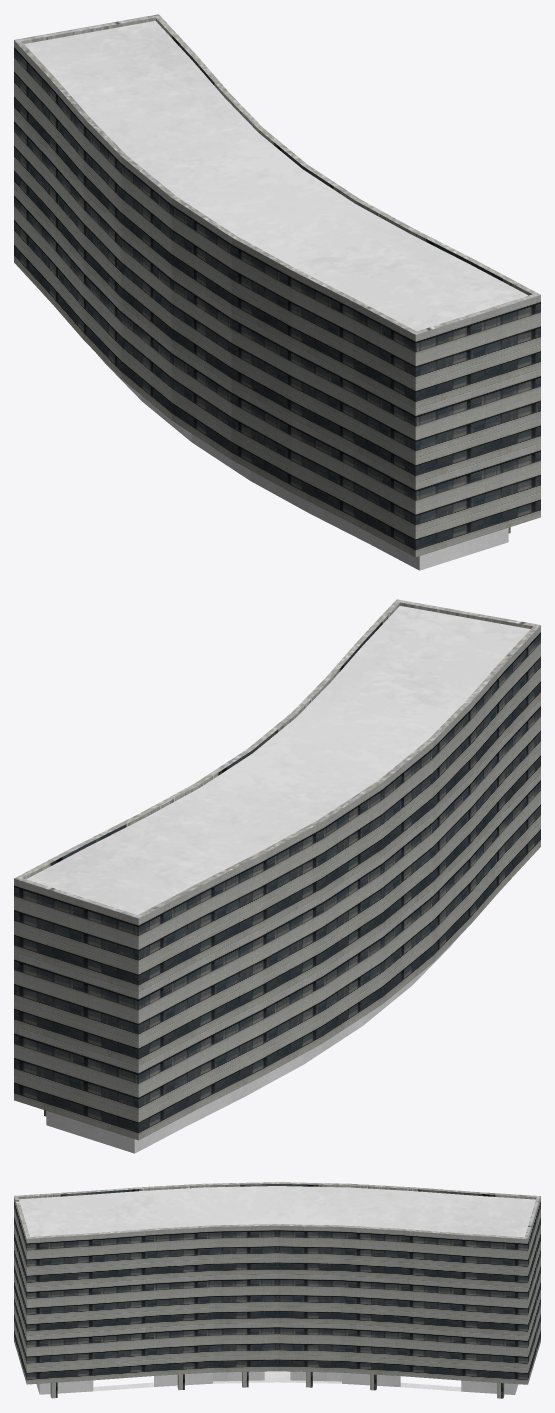
The picture shows the model from 3 angles, top to bottom: view 1: azimuth 30°, elevation 25°; view 2: azimuth 150°, elevation 25°; view 3: azimuth 270°, elevation 25°; orthographic projection. The views are drawn at different scales.
Visible parts, largest first — view 1: Cube; view 2: Cube; view 3: Cube.
Part boxes in pixels (box(x1,y1,x2,y2)): Cube: box(14, 14, 540, 570); Cube: box(14, 599, 540, 1153); Cube: box(14, 1182, 540, 1398).
Size of the model in its own units: 29.39 by 39.2 by 115.
Materials: 2 (2 with a texture image).
